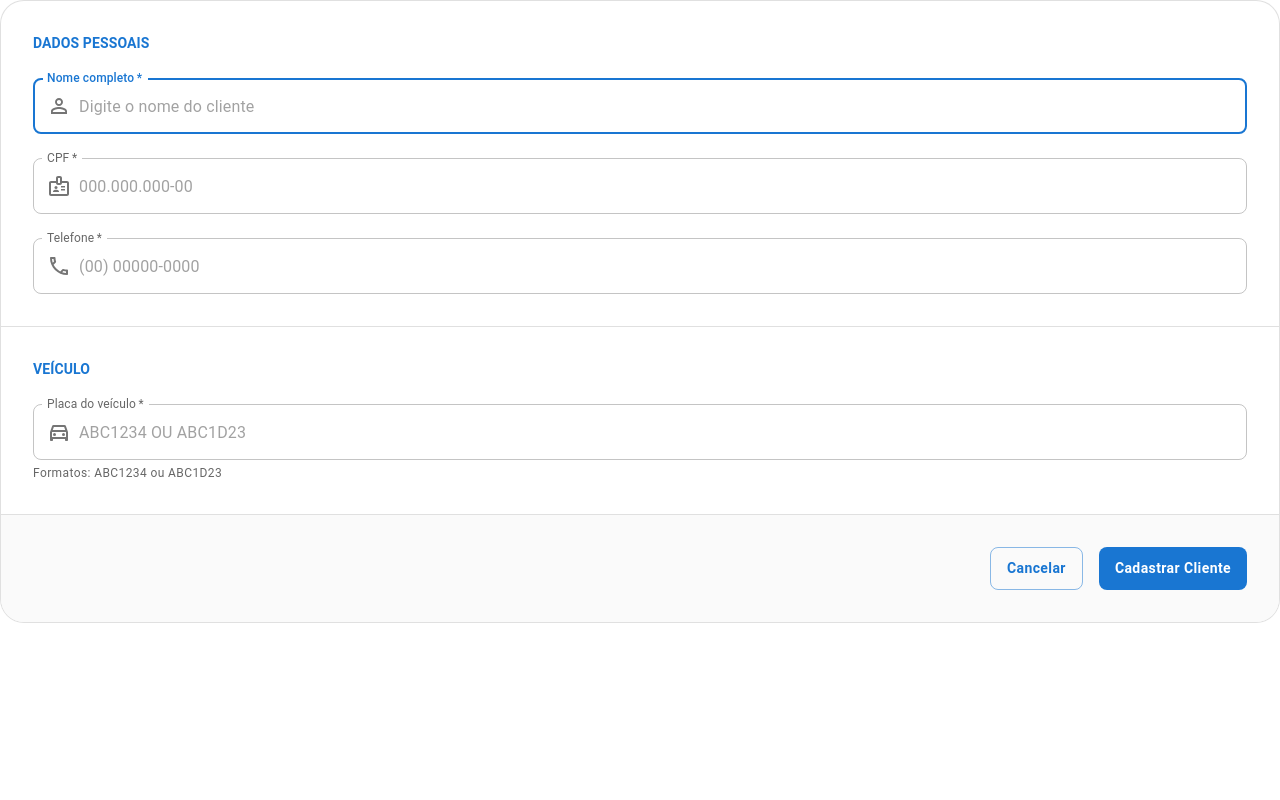
Test: ClientForm › validação › deve exibir erro quando CPF é inválido
This screenshot has width=1280, height=800.
Type "João Silva" into the field with test id "client-name-input".
click(663, 106); type("João Silva")  # box x1=79 y1=78 x2=1247 y2=134
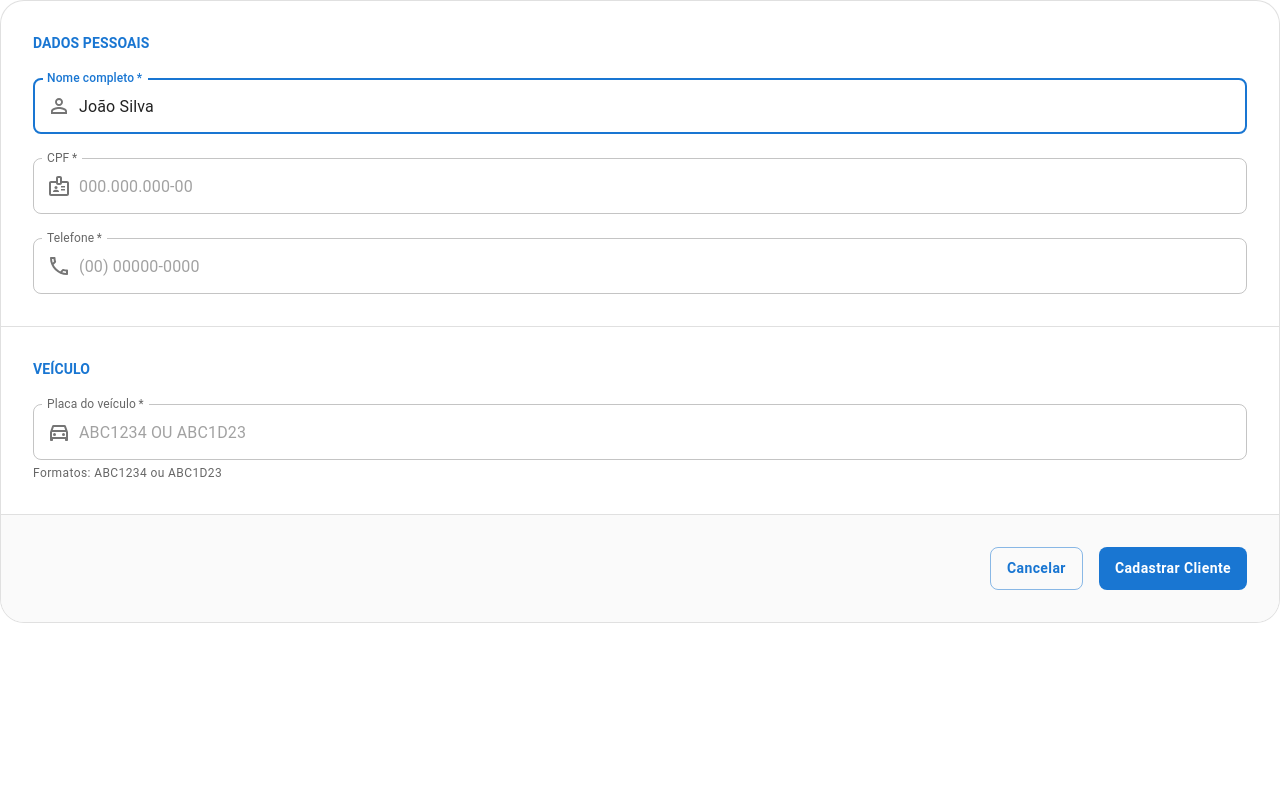
Type "111.111.111-11" into the field with test id "client-cpf-input".
click(663, 186); type("111.111.111-11")  # box x1=79 y1=158 x2=1247 y2=214
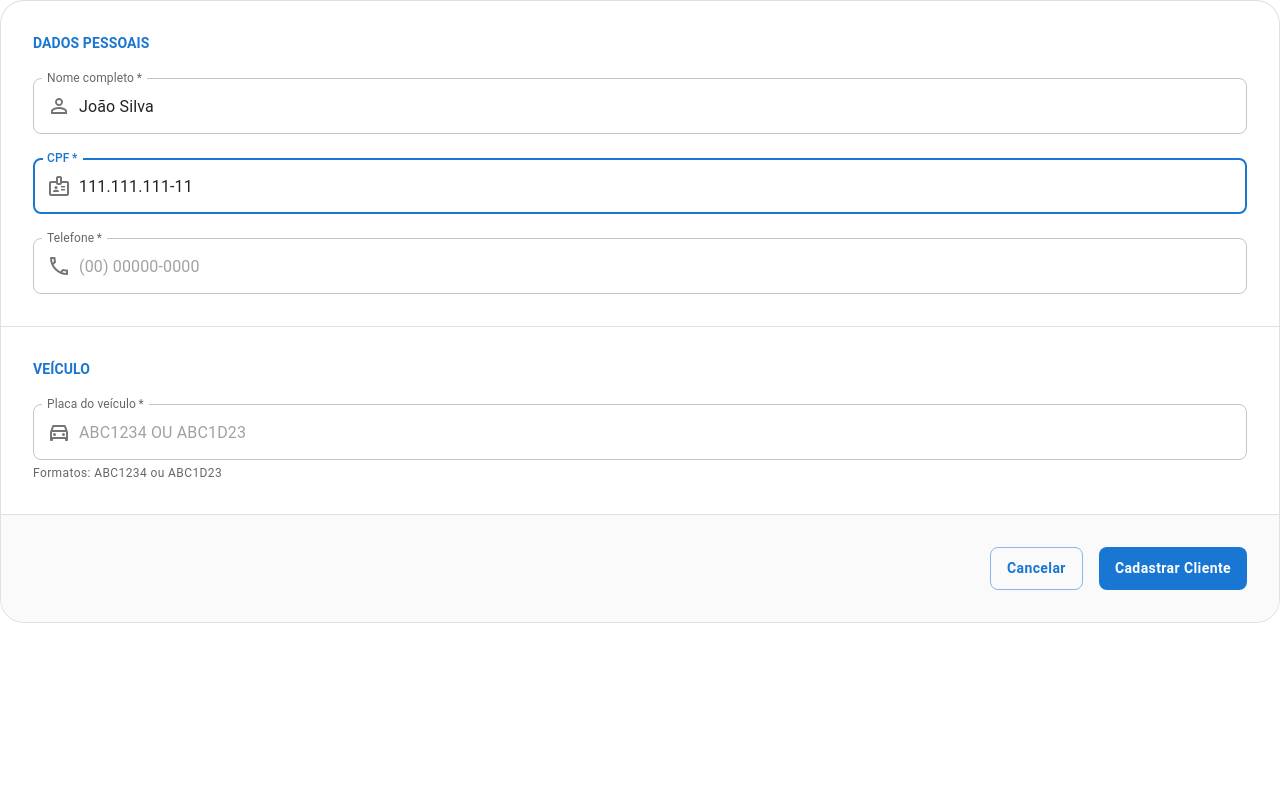
Click the button with test id "client-form-submit-button".
click(1173, 568)  # box x1=1099 y1=547 x2=1247 y2=590
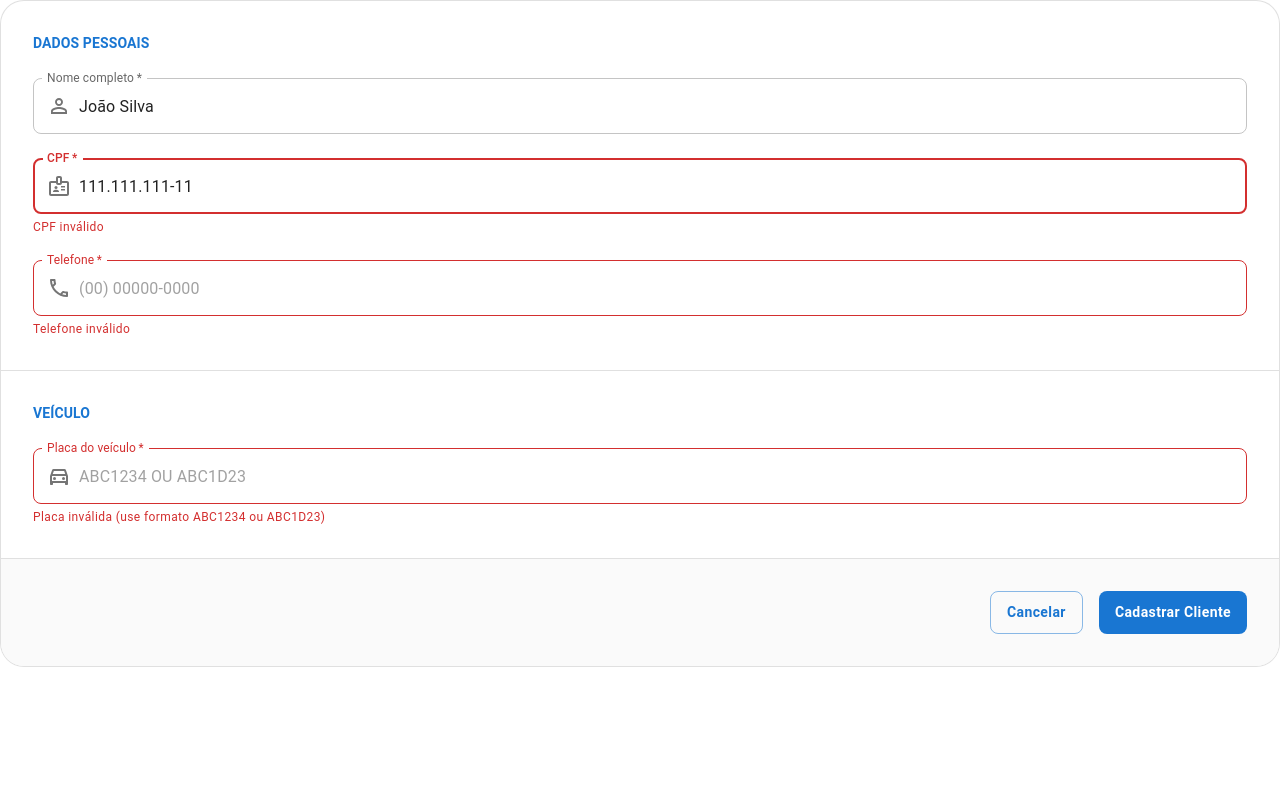
Check: the text "CPF inválido" is shown, box x1=33 y1=220 x2=104 y2=234
